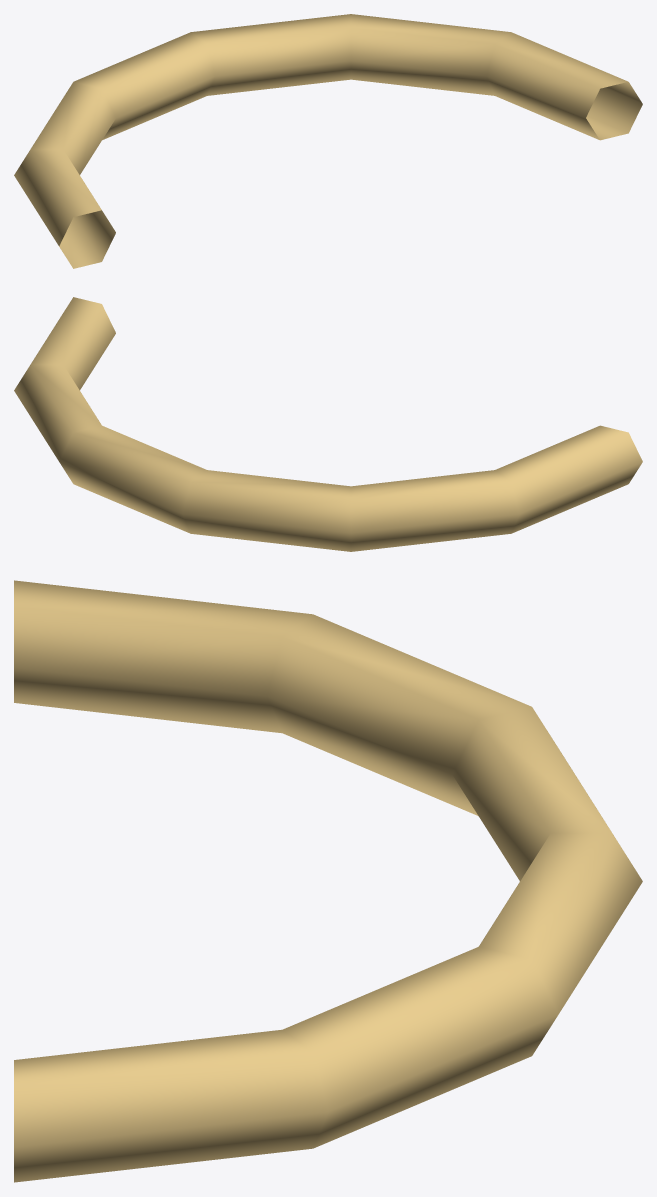
File: prop-trumpet-crook-blank.fbx
3 views of the same model, one above another, from view 1: azimuth 30°, elevation 25°; view 2: azimuth 150°, elevation 25°; view 3: azimuth 270°, elevation 25° (orthographic). The views are drawn at different scales.
Visible parts, largest first — view 1: prop-trumpet-crook-blank; view 2: prop-trumpet-crook-blank; view 3: prop-trumpet-crook-blank.
Boxes of the visible parts, x1,y1,x2,y2 form: prop-trumpet-crook-blank: (14,14,642,268); prop-trumpet-crook-blank: (14,297,642,551); prop-trumpet-crook-blank: (14,580,642,1182).
Size of the model in its own units: 13.3 by 1.13 by 6.65.
